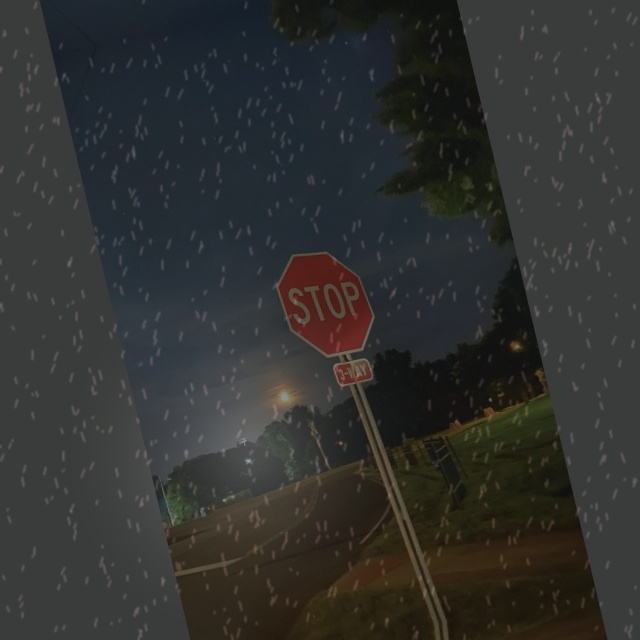Stop: (270, 239, 383, 367)
